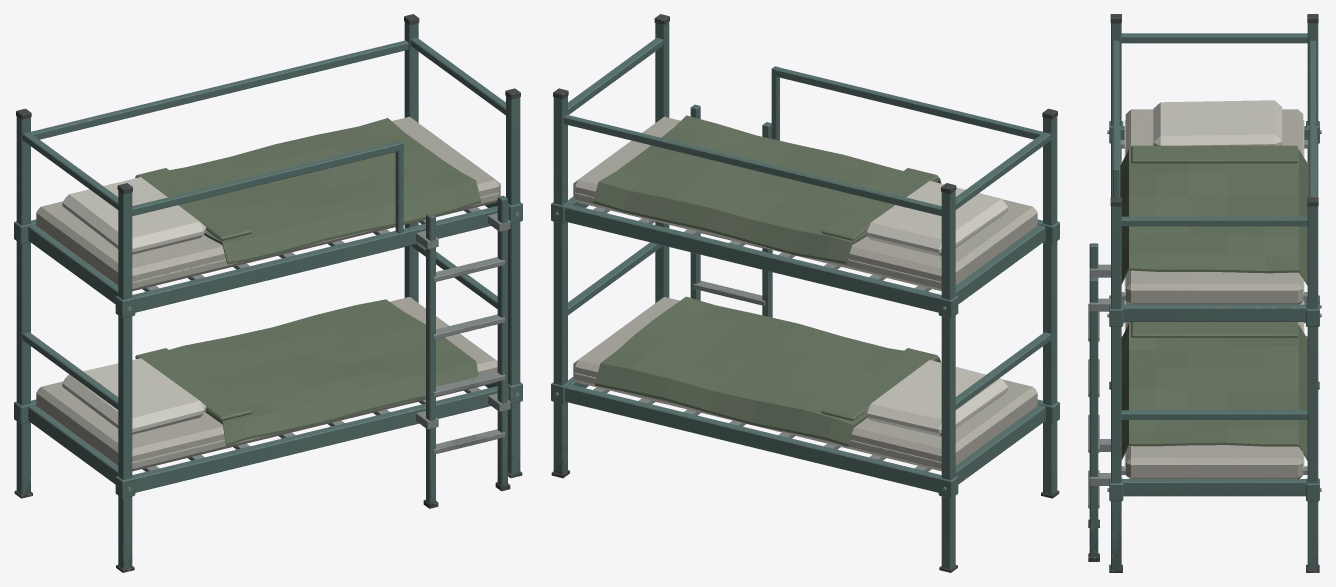
Rendered from bunker_bunk_bed_made-up.glb.
3 views of the same model, side by side, from view 1: azimuth 30°, elevation 25°; view 2: azimuth 150°, elevation 25°; view 3: azimuth 270°, elevation 25° (orthographic). The views are drawn at different scales.
Visible parts, largest first — view 1: BunkBed; view 2: BunkBed; view 3: BunkBed.
Boxes of the visible parts, x1=… form: BunkBed: x1=14, y1=14, x2=522, y2=572; BunkBed: x1=551, y1=14, x2=1059, y2=572; BunkBed: x1=1088, y1=14, x2=1321, y2=572.
Size of what is drawn, in the model's own units: 2.12 by 1.94 by 1.1.
Materials: 1 (1 with a texture image).
